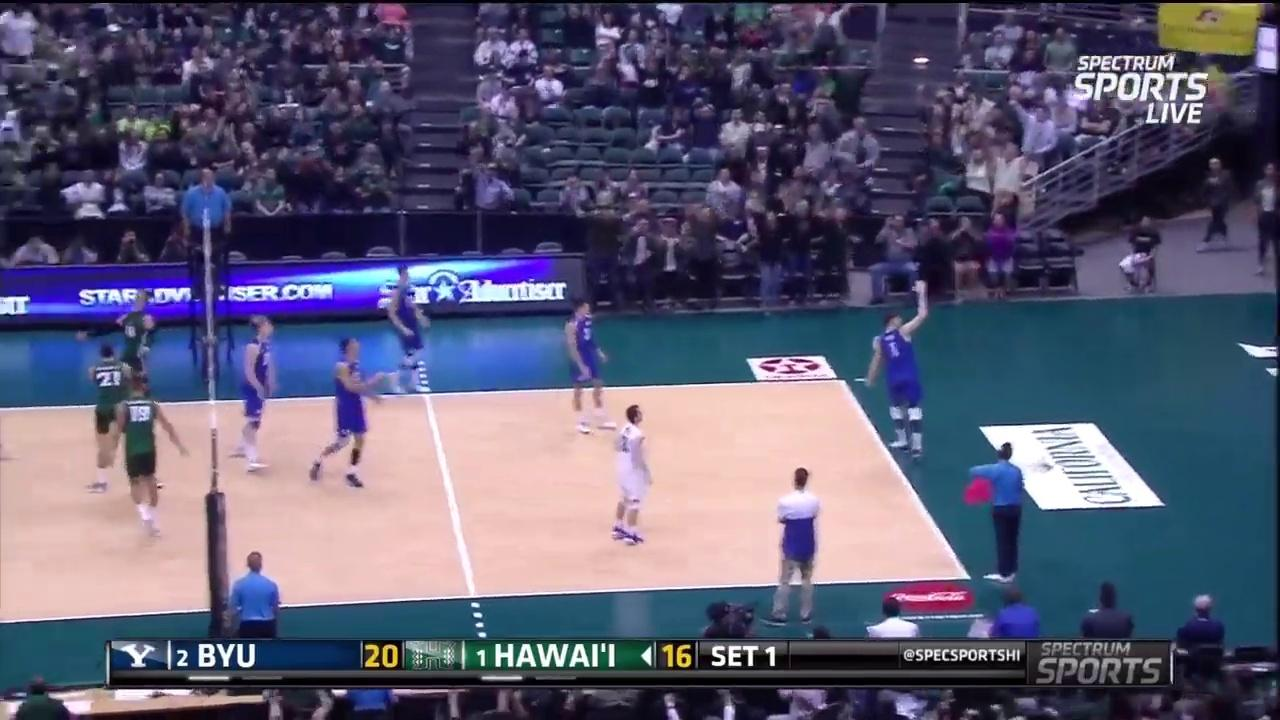player: (109, 369, 178, 536), (311, 341, 376, 486), (869, 309, 930, 455), (108, 291, 169, 415), (88, 344, 133, 485), (236, 326, 277, 473), (611, 411, 655, 544), (564, 302, 608, 429), (381, 281, 428, 393)
refree: (964, 445, 1032, 578), (175, 161, 235, 294), (222, 549, 287, 648)
